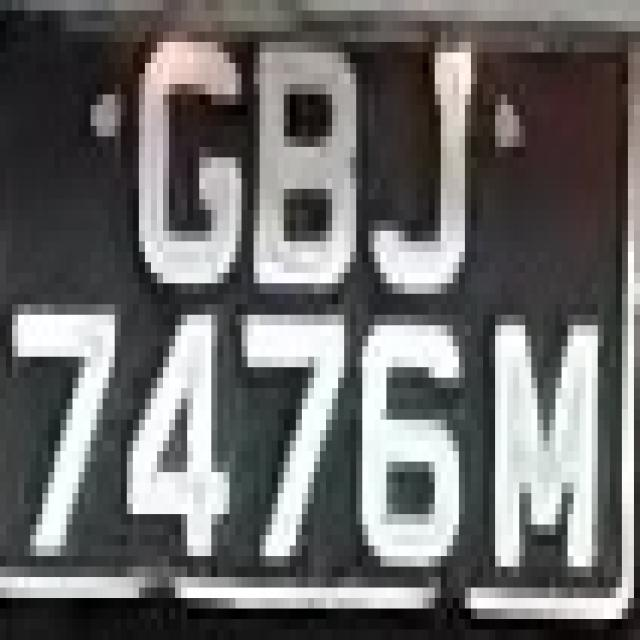4: (109, 284, 223, 608)
6: (350, 283, 453, 598)
7: (6, 262, 115, 598), (236, 273, 344, 566)
B: (242, 11, 368, 304)
G: (115, 21, 248, 294)
J: (362, 0, 489, 294)
M: (459, 273, 610, 577)
